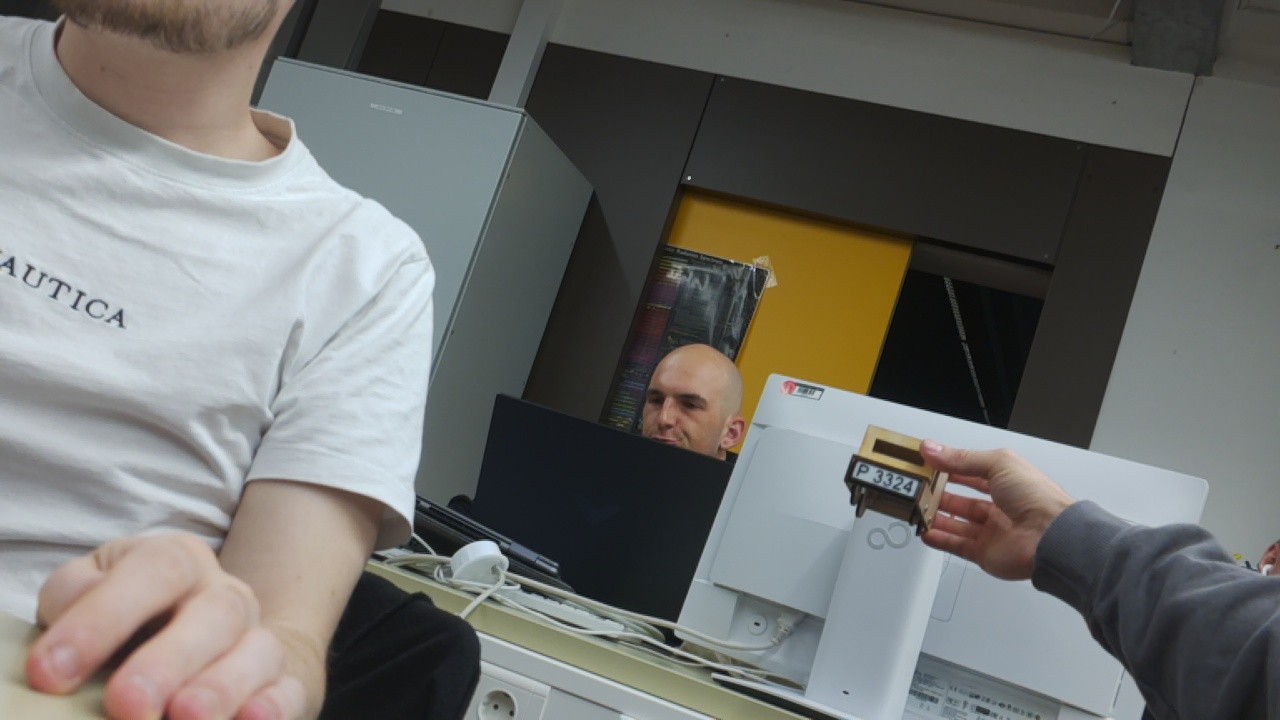license_plate: (849, 455, 923, 501)
